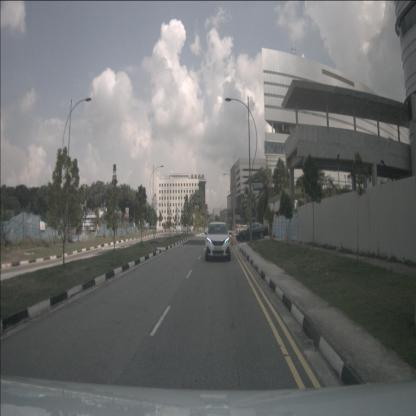movable_object-trafficcone: (285, 231, 288, 240), (271, 232, 274, 240)
vehicle-car: (206, 222, 230, 261), (235, 222, 268, 242), (182, 224, 190, 233)
vehicle-truck: (240, 225, 249, 233)
